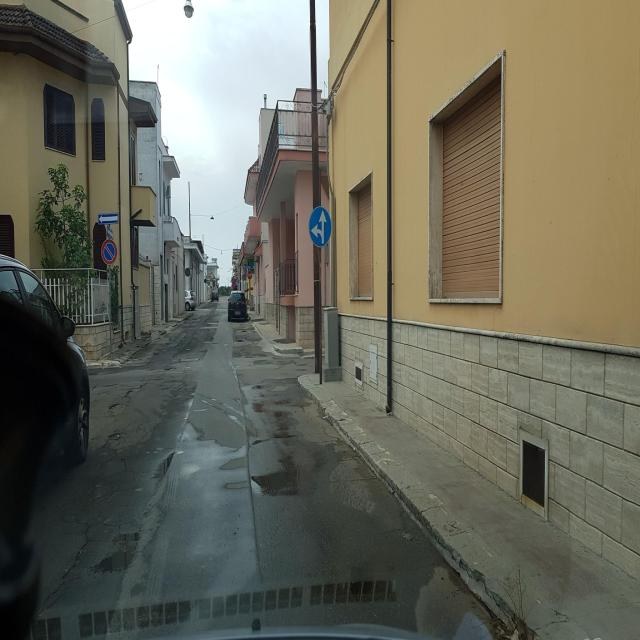car: (0, 253, 78, 392), (227, 290, 248, 320), (184, 288, 196, 310), (211, 289, 219, 301)
